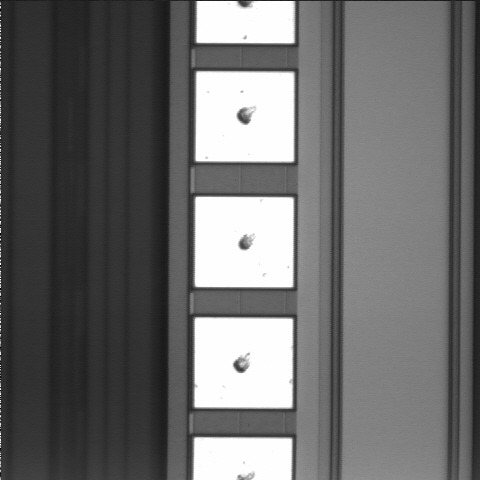pad: (196, 71, 294, 162), (195, 197, 294, 287), (195, 318, 293, 408)
